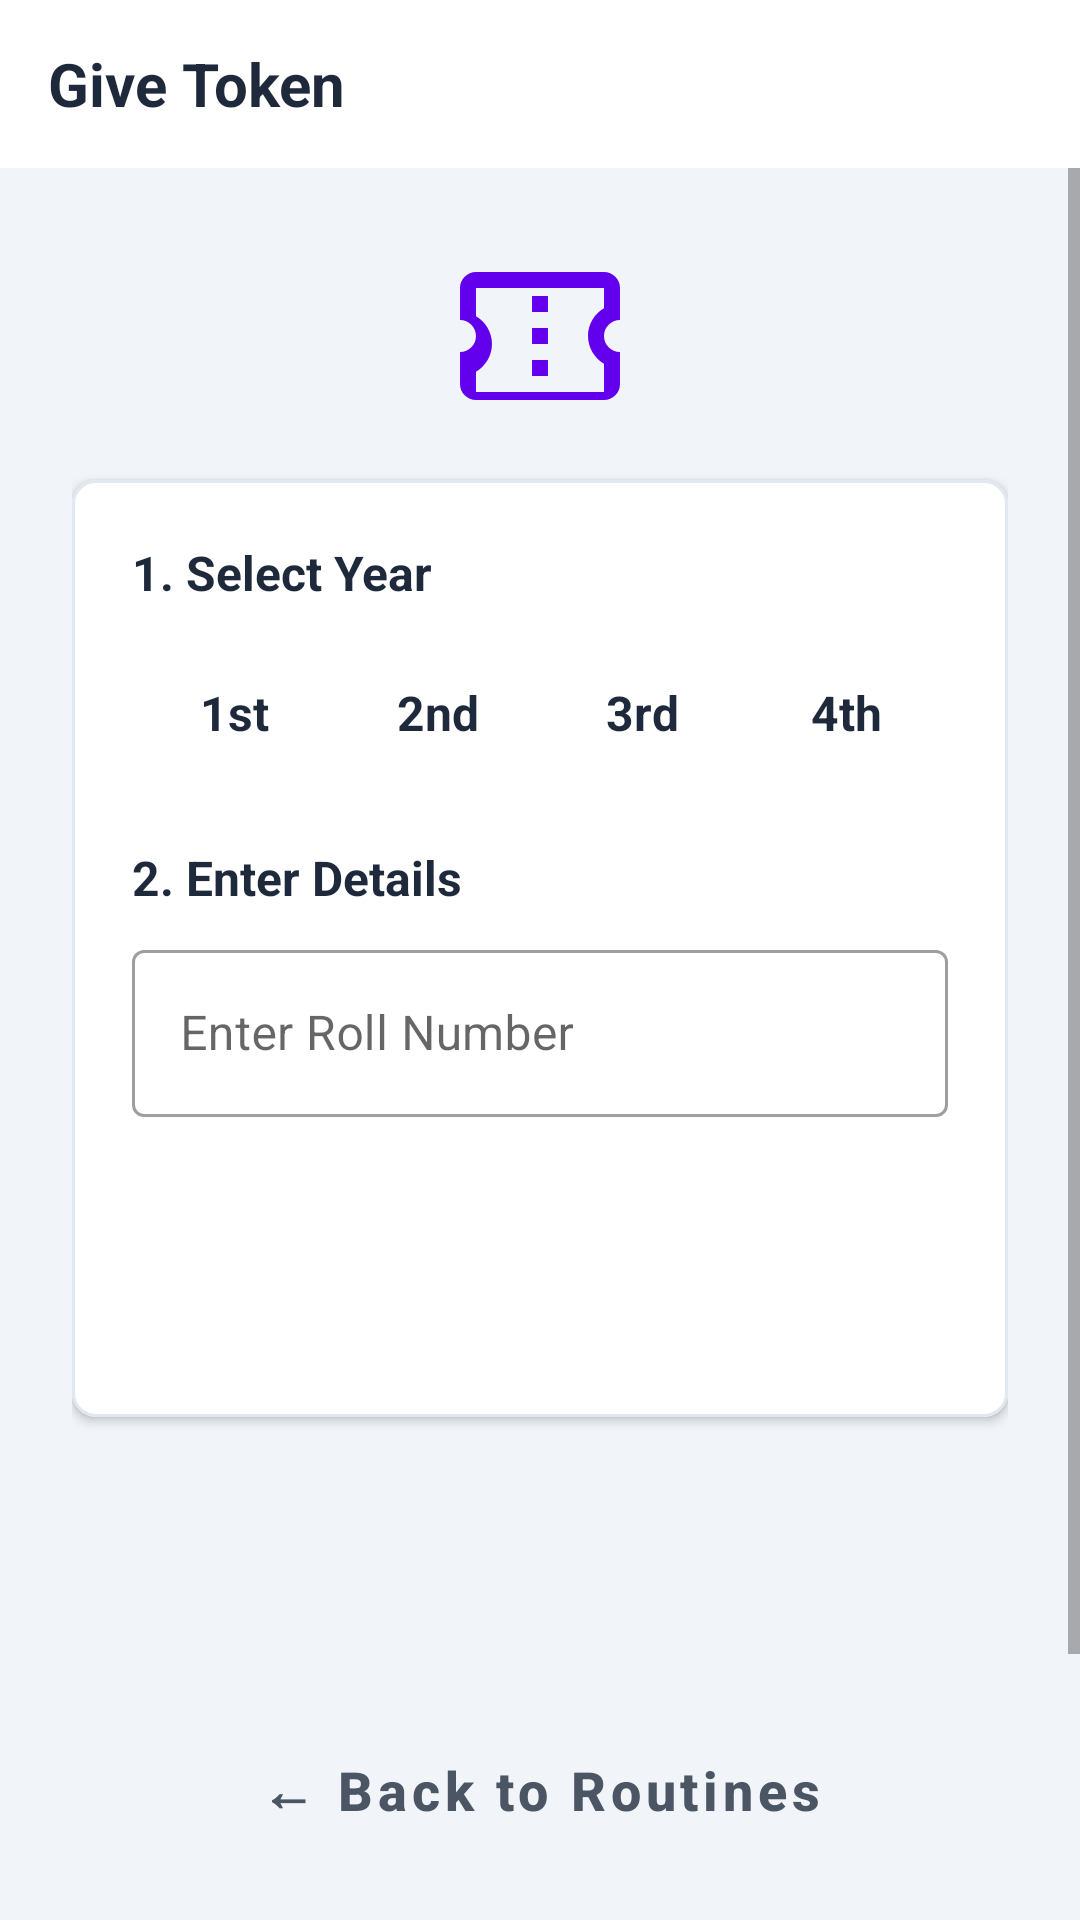

Locate icon controls on the screen. Image size 1080 × 1920, boxes as (x1, y1, x2, y2).
ticket pro: (460, 272, 620, 400)
